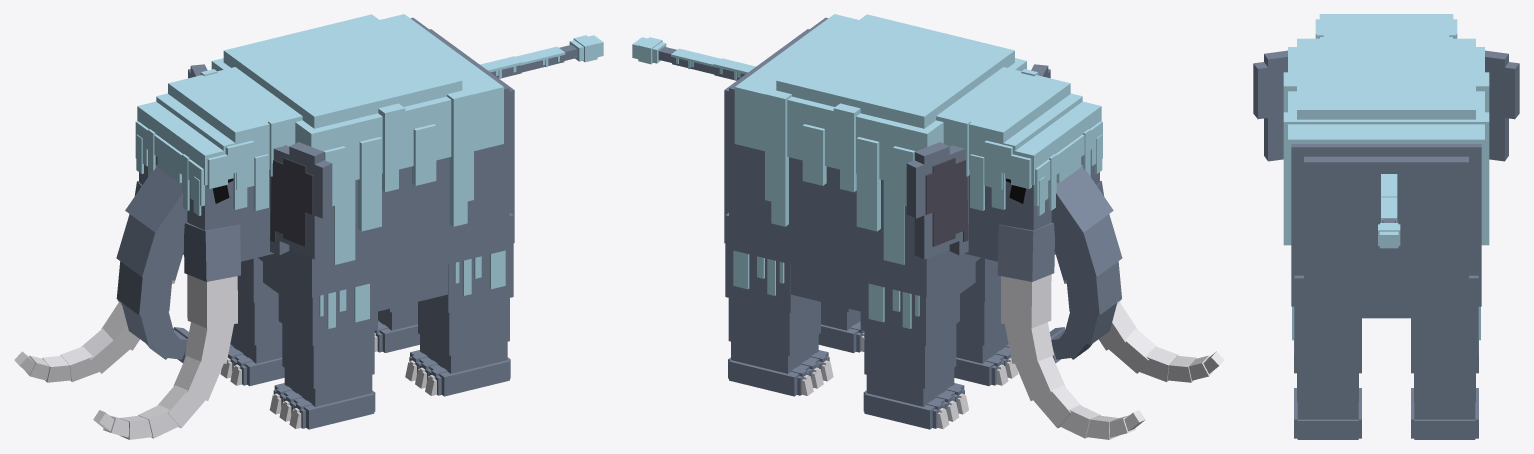
Rendered from ice_mammoth.obj.
The picture shows the model from 3 angles, left to right: view 1: azimuth 30°, elevation 25°; view 2: azimuth 150°, elevation 25°; view 3: azimuth 270°, elevation 25°; orthographic projection.
Visible parts, largest first — view 1: Torso, Cube.813, Cube.806, Cube.809, Cube.795; view 2: Torso, Cube.813, Cube.806, Cube.809, Cube.795; view 3: Torso, Cube.813.
Boxes of the visible parts, x1=… form: Torso: x1=116, y1=17, x2=577, y2=429; Cube.813: x1=135, y1=14, x2=603, y2=328; Cube.806: x1=14, y1=274, x2=237, y2=439; Cube.809: x1=270, y1=158, x2=313, y2=246; Cube.795: x1=220, y1=333, x2=436, y2=428; Torso: x1=658, y1=17, x2=1122, y2=429; Cube.813: x1=632, y1=14, x2=1102, y2=328; Cube.806: x1=1001, y1=274, x2=1224, y2=439; Cube.809: x1=925, y1=157, x2=968, y2=246; Cube.795: x1=802, y1=333, x2=1018, y2=428; Torso: x1=1253, y1=50, x2=1519, y2=439; Cube.813: x1=1283, y1=14, x2=1489, y2=340.
Bounding box in the file's own units: 15.11 × 8.24 × 6.48.
